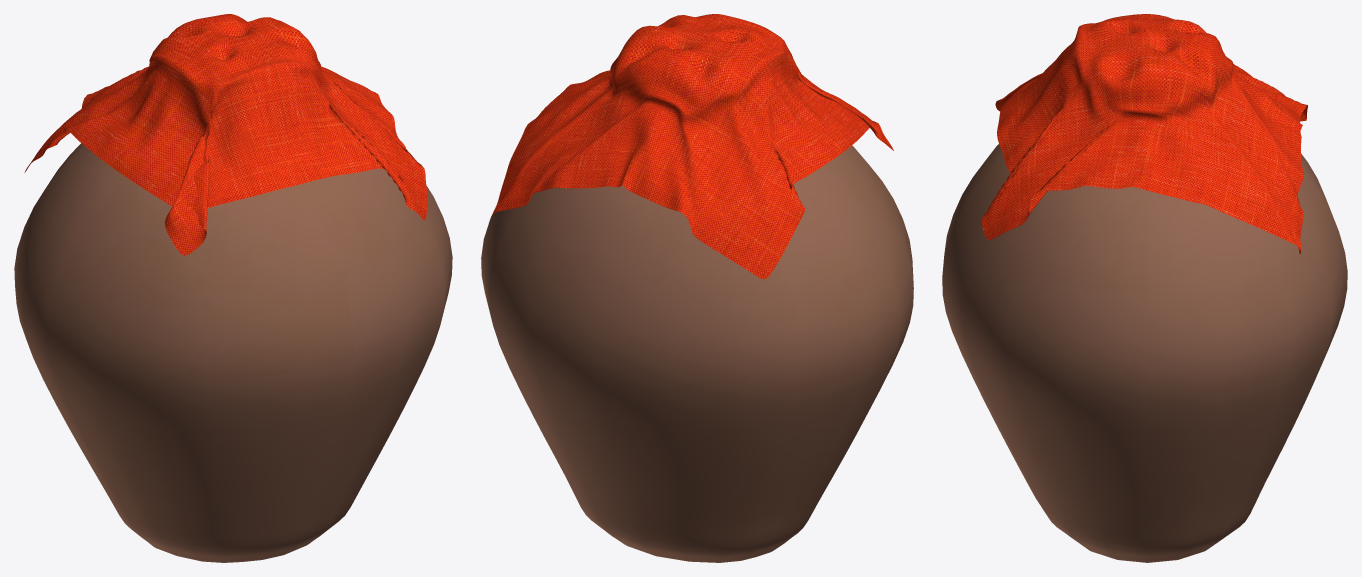
The model's file is BINHRUOU1.fbx.
The picture shows the model from 3 angles, left to right: view 1: azimuth 30°, elevation 25°; view 2: azimuth 150°, elevation 25°; view 3: azimuth 270°, elevation 25°; orthographic projection.
Parts seen in each view (by area): view 1: Cylinder, Plane; view 2: Cylinder, Plane; view 3: Cylinder, Plane.
Boxes of the visible parts, x1,y1,x2,y2 form: Cylinder: [14, 143, 452, 562]; Plane: [24, 14, 427, 255]; Cylinder: [481, 145, 913, 562]; Plane: [491, 14, 893, 279]; Cylinder: [942, 144, 1347, 562]; Plane: [982, 14, 1307, 254].
Bounding box in the file's own units: 59.25 × 73.42 × 54.04.
Materials: 2 (2 with a texture image).
